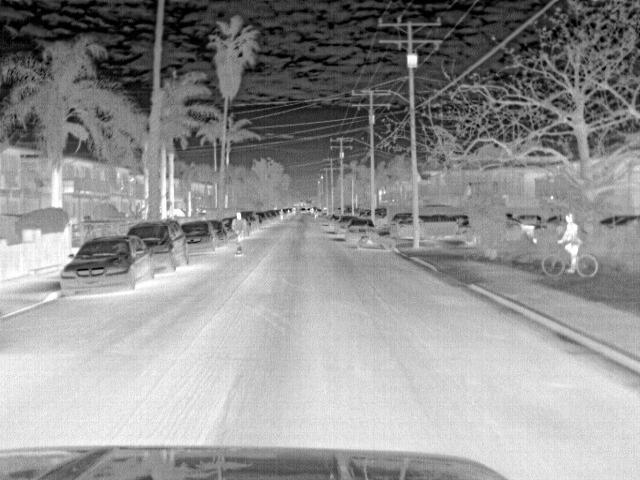car: (57, 234, 157, 298), (128, 223, 193, 274), (175, 221, 215, 258), (506, 215, 548, 243), (345, 218, 377, 244), (207, 220, 229, 252), (335, 215, 357, 237), (238, 210, 259, 229)
person: (555, 211, 585, 275), (228, 209, 248, 252)
